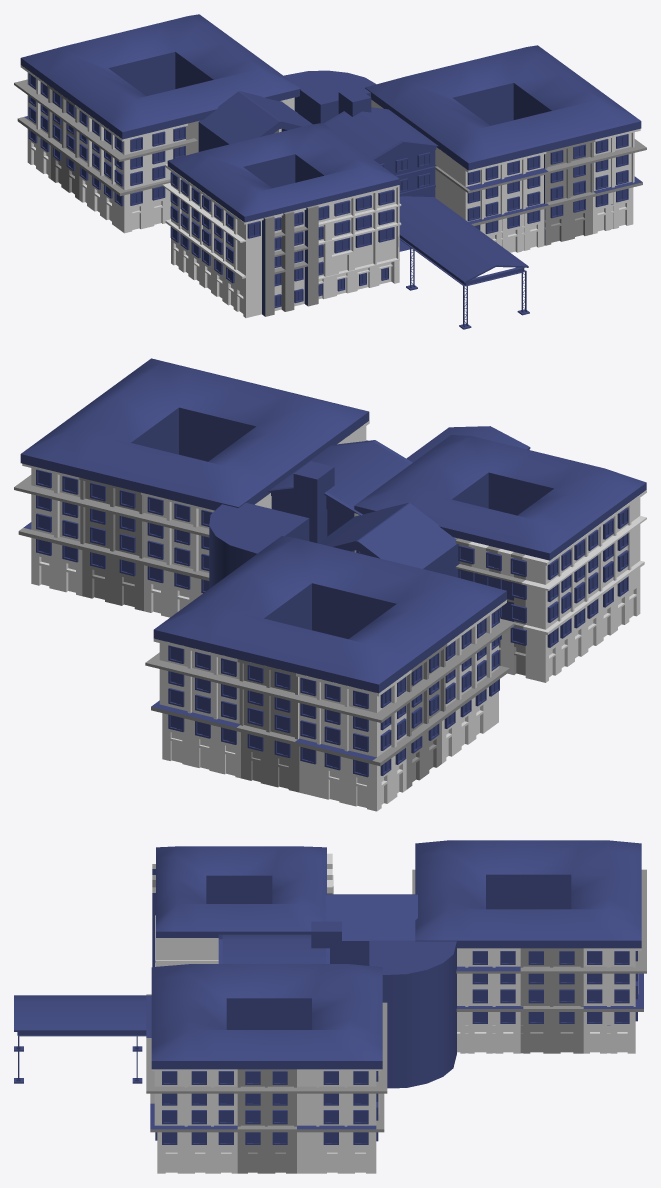
The model's file is Aryabhatta.glb.
3 renders of one model, top to bottom at view 1: azimuth 30°, elevation 25°; view 2: azimuth 150°, elevation 25°; view 3: azimuth 270°, elevation 25°, orthographic. The views are drawn at different scales.
Visible parts, largest first — view 1: pCube56, pCube54, pasted__pCube2, pCube57, MainBuilding:pCube3, pCube3, pCube35, pCube52, pCube59, pCylinder1, pCube43, pCube53; view 2: pCube54, pCube56, pCube3, pCube57, MainBuilding:pCube3, pasted__pCube2, pCube52, pCylinder1, pCube59, pCube53, pCube35, pCube43; view 3: pCube56, pCube54, MainBuilding:pCube3, pCube3, pCube57, pCylinder1, pCube35, pCube52, pCube59, pasted__pCube2, pCube53, pCube37.
Boxes of the visible parts, left/top/right/bottom form: pCube56: left=365, top=45, right=641, bottom=170; pCube54: left=20, top=14, right=300, bottom=139; pasted__pCube2: left=162, top=164, right=401, bottom=317; pCube57: left=167, top=123, right=399, bottom=222; MainBuilding:pCube3: left=371, top=100, right=646, bottom=252; pCube3: left=14, top=65, right=297, bottom=233; pCube35: left=399, top=196, right=528, bottom=283; pCube52: left=198, top=91, right=312, bottom=151; pCube59: left=324, top=107, right=438, bottom=163; pCylinder1: left=284, top=70, right=375, bottom=124; pCube43: left=379, top=150, right=435, bottom=251; pCube53: left=338, top=87, right=371, bottom=116; pCube54: left=153, top=536, right=506, bottom=693; pCube56: left=20, top=358, right=369, bottom=510; pCube3: left=145, top=600, right=514, bottom=811; pCube57: left=354, top=435, right=646, bottom=560; MainBuilding:pCube3: left=14, top=420, right=369, bottom=617; pasted__pCube2: left=354, top=490, right=646, bottom=682; pCube52: left=318, top=503, right=459, bottom=577; pCylinder1: left=209, top=503, right=309, bottom=588; pCube59: left=268, top=440, right=412, bottom=515; pCube53: left=293, top=461, right=334, bottom=543; pCube35: left=406, top=426, right=530, bottom=462; pCube43: left=271, top=496, right=362, bottom=554; pCube56: left=151, top=964, right=382, bottom=1069; pCube54: left=415, top=840, right=641, bottom=948; MainBuilding:pCube3: left=146, top=994, right=387, bottom=1173; pCube3: left=412, top=869, right=646, bottom=1053; pCube57: left=156, top=846, right=326, bottom=937; pCylinder1: left=369, top=940, right=456, bottom=1088; pCube35: left=14, top=995, right=146, bottom=1031; pCube52: left=325, top=894, right=417, bottom=965; pCube59: left=218, top=934, right=329, bottom=963; pasted__pCube2: left=152, top=853, right=333, bottom=966; pCube53: left=311, top=921, right=341, bottom=963; pCube37: left=18, top=1032, right=146, bottom=1036.
Size of the model in its own units: 5.12 by 1.49 by 6.17.
